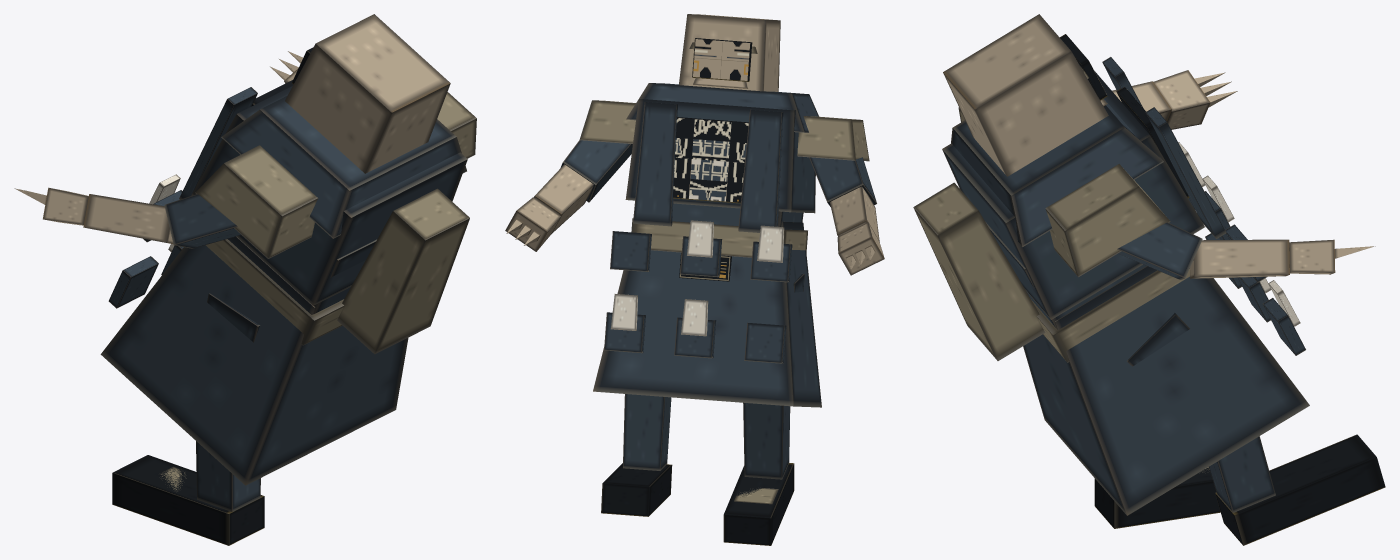
Rendered from consenth_death.obj.
3 views of the same model, side by side, from view 1: azimuth 30°, elevation 25°; view 2: azimuth 150°, elevation 25°; view 3: azimuth 270°, elevation 25° (orthographic). The views are drawn at different scales.
Visible parts, largest first — view 1: consenth_death; view 2: consenth_death; view 3: consenth_death.
Boxes of the visible parts, box(x1,y1,x2,y2) form: consenth_death: box(14, 14, 476, 545); consenth_death: box(505, 14, 884, 545); consenth_death: box(913, 14, 1385, 545).
Size of the model in its own units: 0.7951 by 0.9901 by 0.8115.
1 material, 1 textured.
